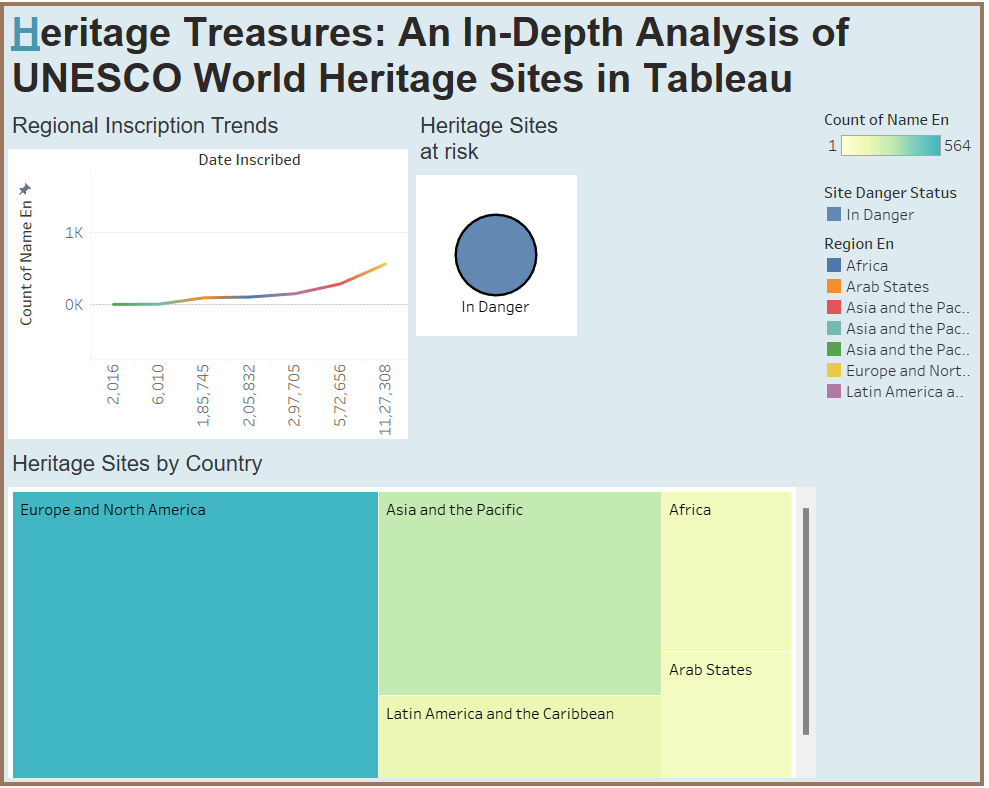

The dashboard page shown, as its layout file describes it:
{"tool":"tableau","page":{"name":"Dashboard 1","canvas":[1000,800],"ordinal":0},"visuals":[{"type":"title","box":[12,12,976,99]},{"type":"worksheet","title":"Sheet 3","mark":"Line","rows":["name_en"],"cols":["date_inscribed"],"box":[12,111,408,338.5]},{"type":"worksheet","title":"Sheet 2","mark":"Pie","box":[420,111,408,338.5]},{"type":"legend","title":"Sheet 1","param":"[federated.14q5akm1y8it8j1c1l0bq13slaq4].[cnt:name_en:qk]","box":[828,111,160,73]},{"type":"legend","title":"Sheet 2","param":"[federated.14q5akm1y8it8j1c1l0bq13slaq4].[none:Calculation_2183401418315501568:n","box":[828,184,160,51]},{"type":"legend","title":"Sheet 3","param":"[federated.14q5akm1y8it8j1c1l0bq13slaq4].[none:region_en:nk]","box":[828,235,160,177]},{"type":"worksheet","title":"Sheet 1","mark":"Automatic","box":[12,449.5,816,338.5]}]}

Visuals, with their boxes in screenshot pixels (x1, y1, x2, y2), scaled from the page's 1000x800 canvas onto the 989x788 screenshot:
title: region(12, 12, 977, 109)
"Sheet 3" worksheet (Line marks): region(12, 109, 415, 443)
"Sheet 2" worksheet (Pie marks): region(415, 109, 819, 443)
"Sheet 1" legend: region(819, 109, 977, 181)
"Sheet 2" legend: region(819, 181, 977, 231)
"Sheet 3" legend: region(819, 231, 977, 406)
"Sheet 1" worksheet: region(12, 443, 819, 776)
